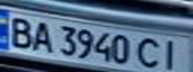0: (112, 33, 133, 65)
3: (54, 24, 78, 57)
4: (90, 30, 115, 63)
9: (72, 27, 96, 61)
A: (27, 19, 57, 53)
B: (3, 14, 36, 50)
C: (136, 35, 166, 70)
I: (157, 37, 190, 71)
